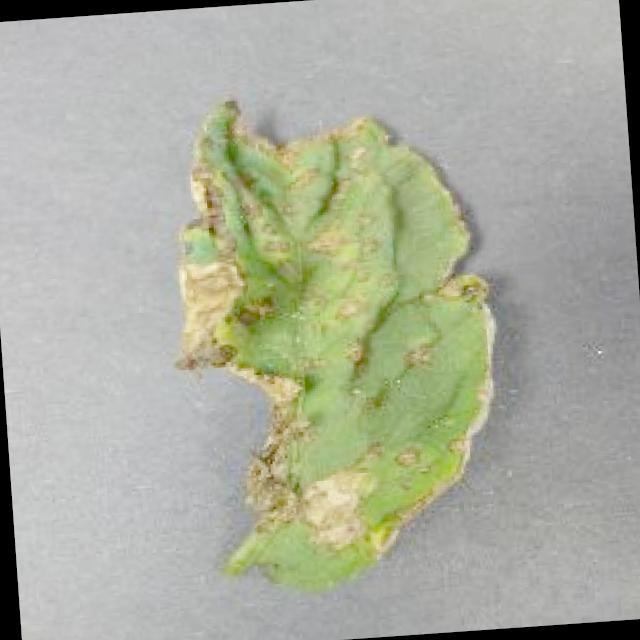Tomato bacterial spot leaf: (157, 73, 528, 612)
